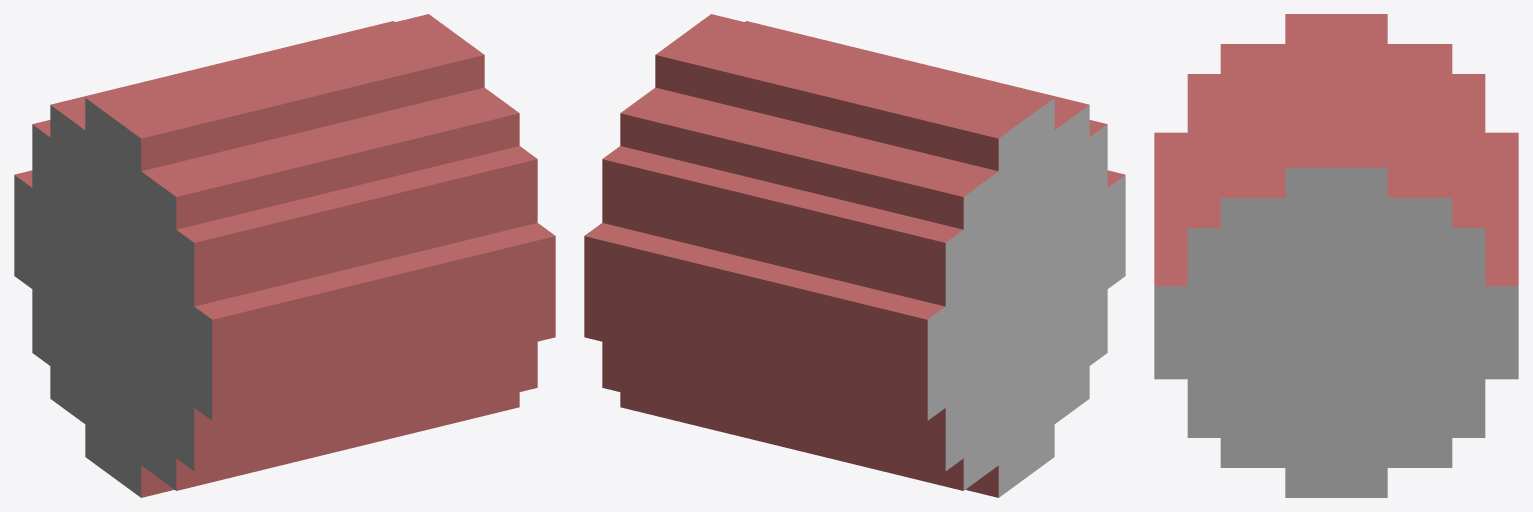
The model's file is hophey_pixel.fbx.
3 renders of one model, left to right at view 1: azimuth 30°, elevation 25°; view 2: azimuth 150°, elevation 25°; view 3: azimuth 270°, elevation 25°, orthographic. The views are drawn at different scales.
Visible parts, largest first — view 1: Pixel; view 2: Pixel; view 3: Pixel.
Part boxes in pixels (<box>): Pixel: <box>14,14,555,497</box>; Pixel: <box>584,14,1125,497</box>; Pixel: <box>1154,14,1518,497</box>.
Size of the model in its own units: 100 by 100 by 100.
